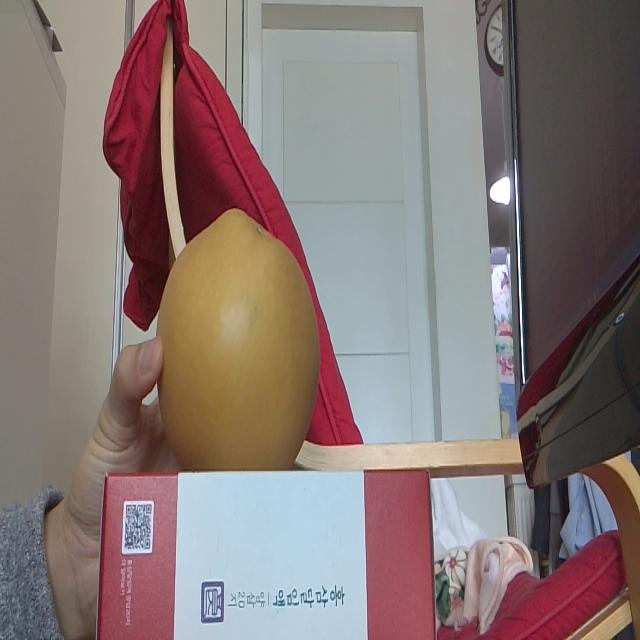pear: (157, 206, 319, 473)
